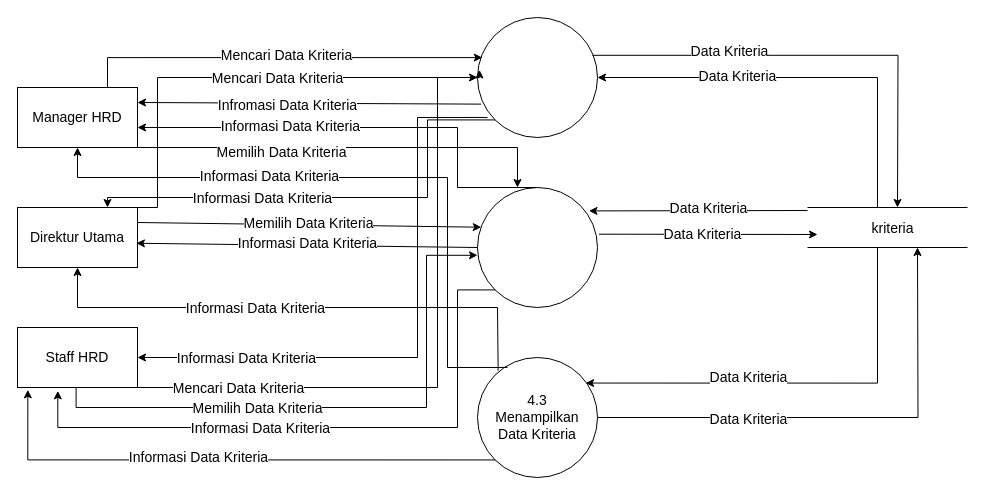
The diagram is 986 pixels wide and 495 high, and some of its shapes have lost their labels. The centre of each missing label's shape, as x and y in pixels:
4.1 Mencari Data Kriteria: the point at 537,77
4.2 Memilih Data Kriteria: the point at 537,247
